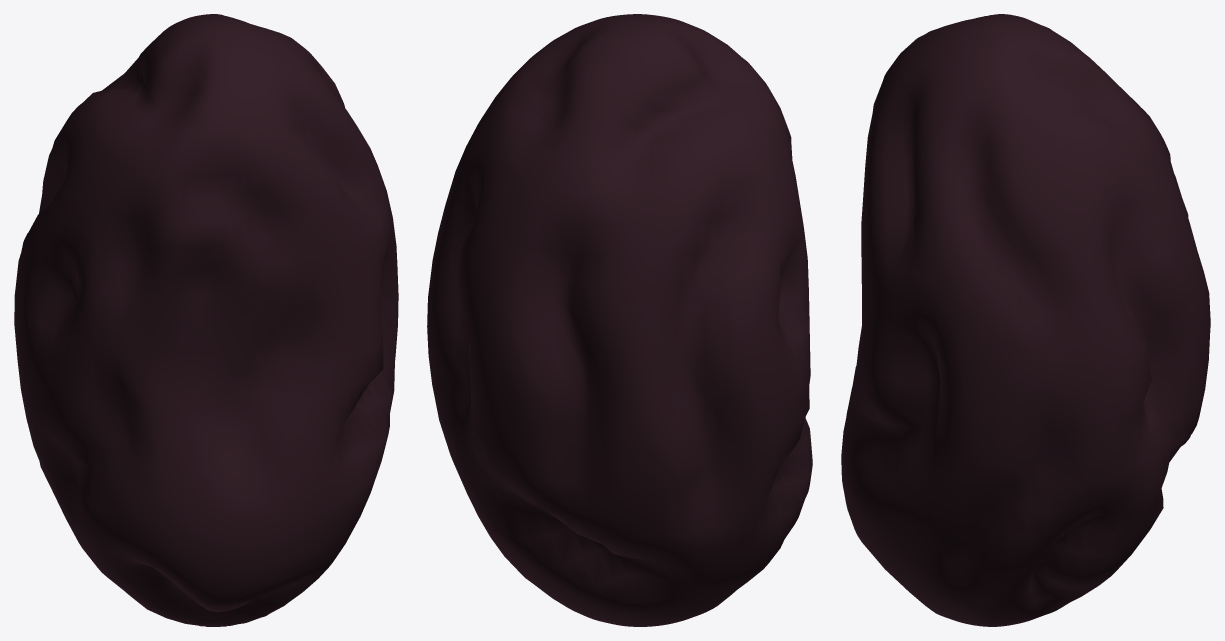
File: pasa_model.fbx
3 views of the same model, side by side, from view 1: azimuth 30°, elevation 25°; view 2: azimuth 150°, elevation 25°; view 3: azimuth 270°, elevation 25° (orthographic).
Parts seen in each view (by area): view 1: pasa; view 2: pasa; view 3: pasa.
Part boxes in pixels (<box>): pasa: <box>14,14,398,626</box>; pasa: <box>427,14,812,626</box>; pasa: <box>841,14,1210,626</box>.
Size of the model in its own units: 198 by 327 by 184.
